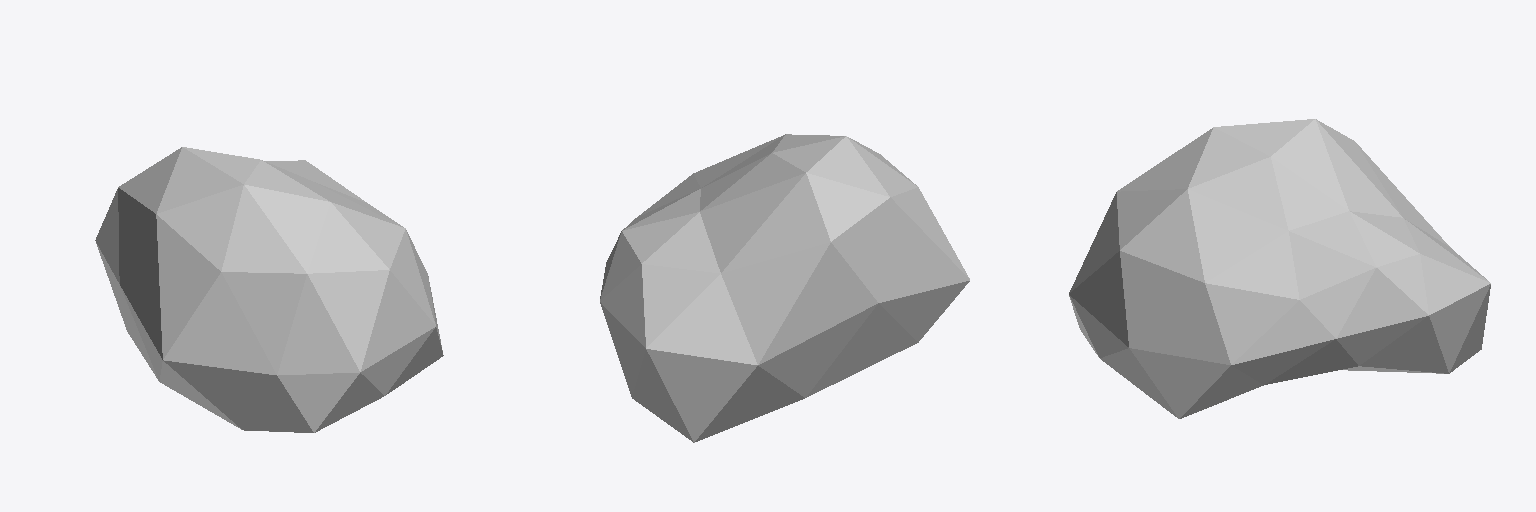
File: rock_1.obj
3 views of the same model, side by side, from view 1: azimuth 30°, elevation 25°; view 2: azimuth 150°, elevation 25°; view 3: azimuth 270°, elevation 25° (orthographic).
Visible parts, largest first — view 1: rock_1; view 2: rock_1; view 3: rock_1.
Part boxes in pixels (x1,y1,x2,y2): rock_1: (95,147,443,432); rock_1: (600,134,969,442); rock_1: (1069,119,1490,418).
Size of the model in its own units: 2.35 by 1.67 by 2.91.